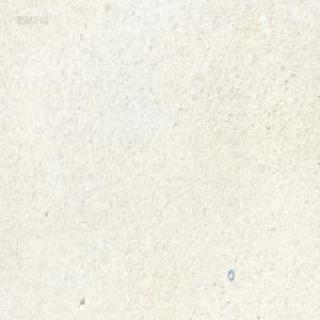Washertrack_idkeyframe: (226, 268, 233, 280)
